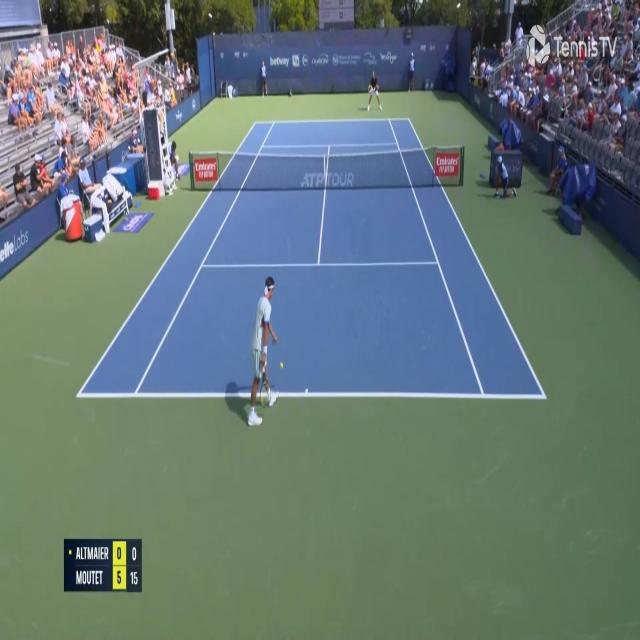tennis-player: (246, 272, 284, 430), (365, 70, 383, 113)
